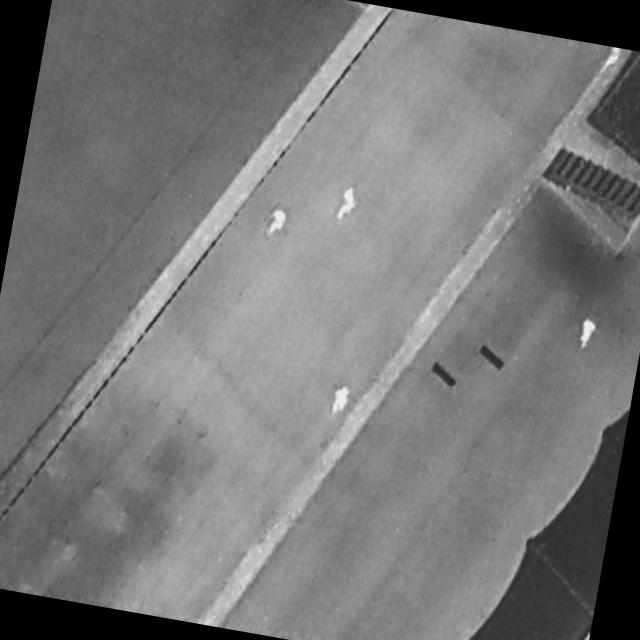person: (329, 180, 363, 228), (572, 312, 602, 355), (327, 380, 355, 421), (262, 203, 291, 241)
